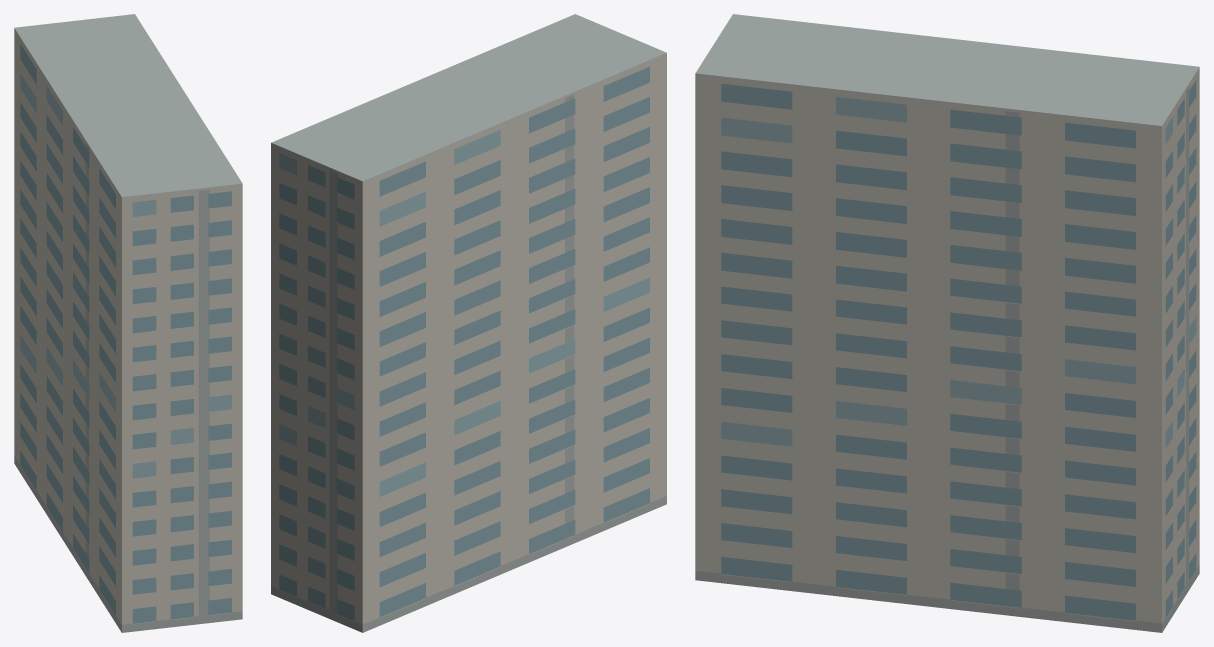
The model's file is residential-72d97509-eb35-4feb-babb-9aebca40ba52.glb.
The picture shows the model from 3 angles, left to right: view 1: azimuth 30°, elevation 25°; view 2: azimuth 150°, elevation 25°; view 3: azimuth 270°, elevation 25°; orthographic projection. The views are drawn at different scales.
Visible parts, largest first — view 1: residential-72d97509-eb35-4feb-babb-9aebca40ba52.tmp; view 2: residential-72d97509-eb35-4feb-babb-9aebca40ba52.tmp; view 3: residential-72d97509-eb35-4feb-babb-9aebca40ba52.tmp.
Part boxes in pixels (left/top/right/bottom): residential-72d97509-eb35-4feb-babb-9aebca40ba52.tmp: left=14, top=14, right=242, bottom=632; residential-72d97509-eb35-4feb-babb-9aebca40ba52.tmp: left=271, top=14, right=666, bottom=632; residential-72d97509-eb35-4feb-babb-9aebca40ba52.tmp: left=695, top=14, right=1199, bottom=632.
Bounding box in the file's own units: 21.71 × 45.75 × 41.27.
